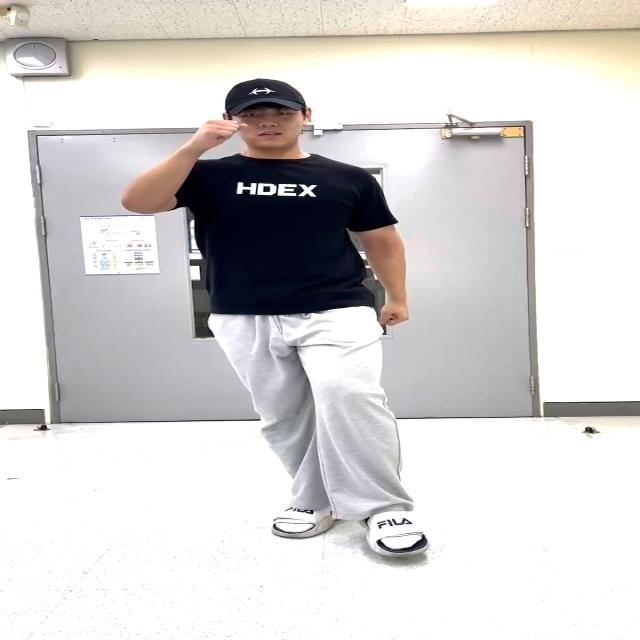leg: (313, 320, 418, 547)
